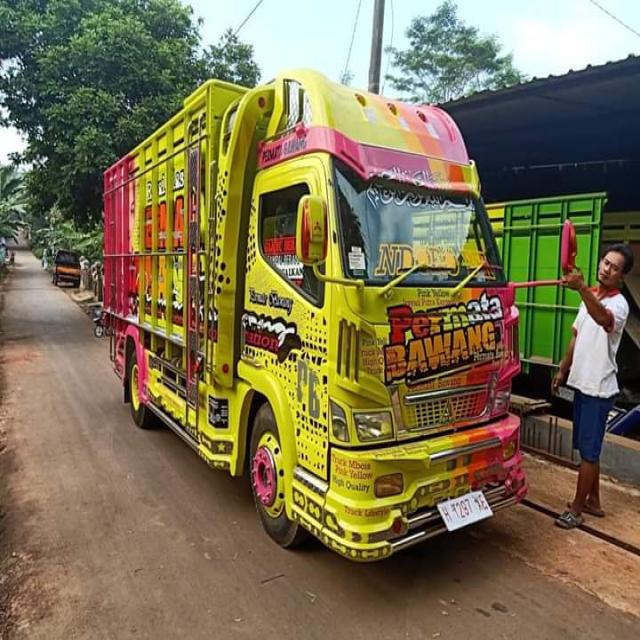truck: (98, 73, 580, 562)
